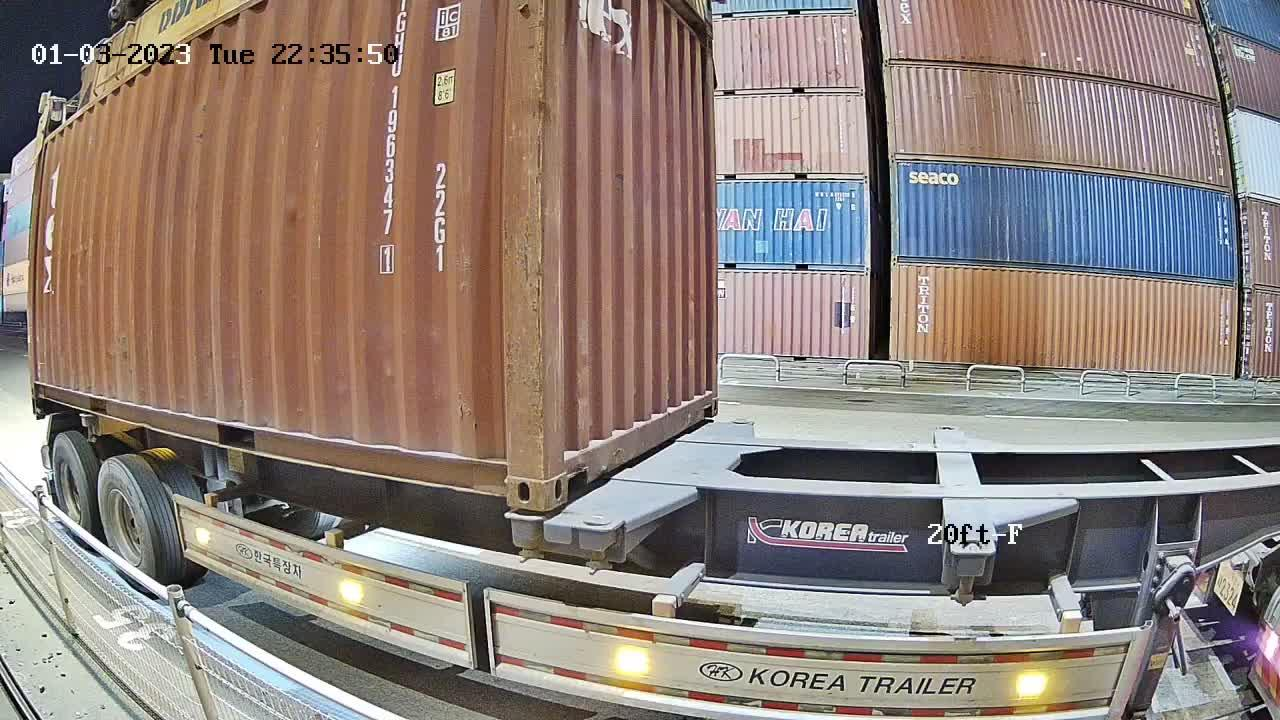Chassis: (577, 419, 754, 532)
Cone: (576, 514, 626, 581), (505, 511, 545, 562)
Hole_L: (543, 416, 595, 510)
Hole_R: (475, 428, 545, 510), (691, 367, 721, 425)
Tire: (96, 458, 162, 594), (52, 436, 92, 543)
